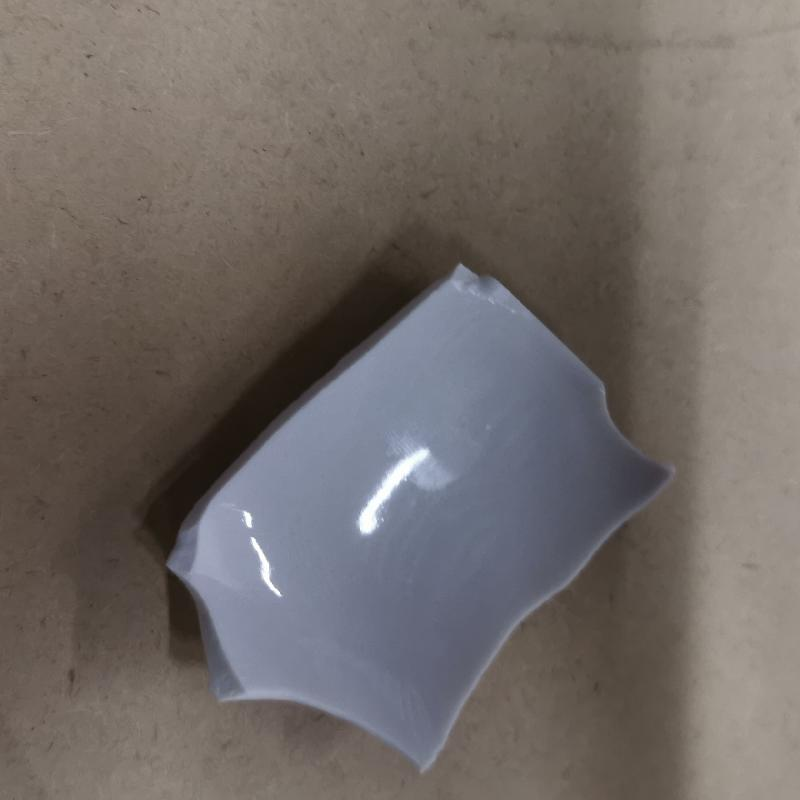ceram: (157, 254, 684, 799)
